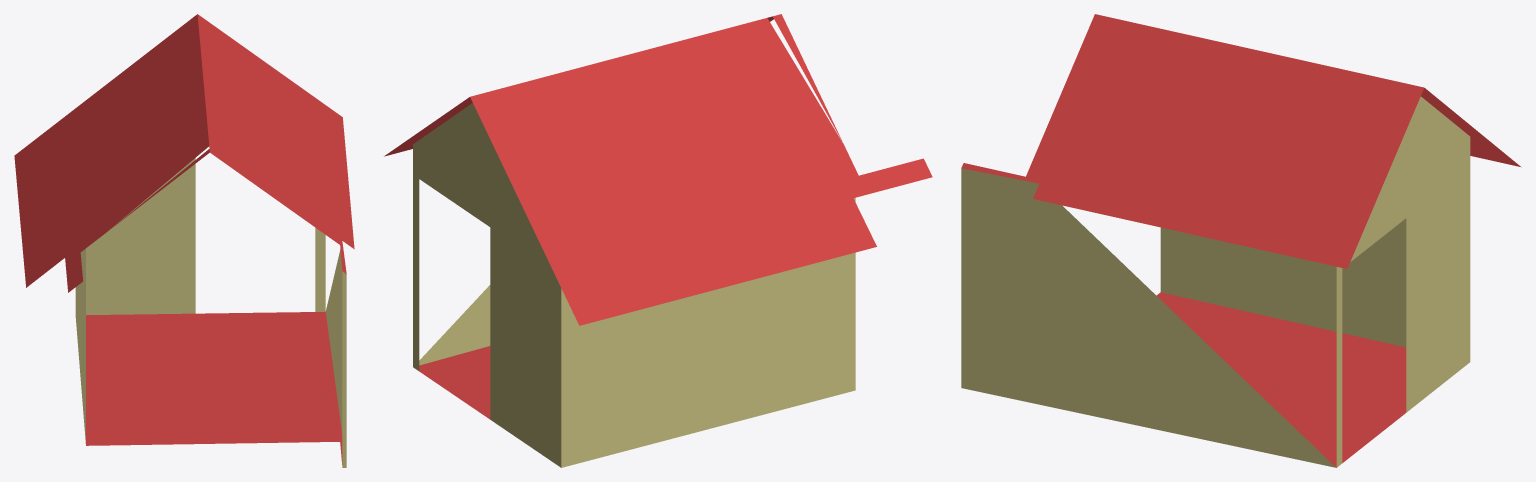
3 renders of one model, left to right at view 1: azimuth 30°, elevation 25°; view 2: azimuth 150°, elevation 25°; view 3: azimuth 270°, elevation 25°, orthographic. The views are drawn at different scales.
Bounding box in the file's own units: 22.01 × 24.6 × 16.03.
